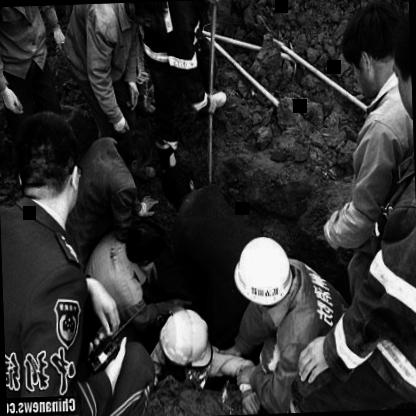helmet: (230, 229, 294, 332), (154, 303, 222, 393)
